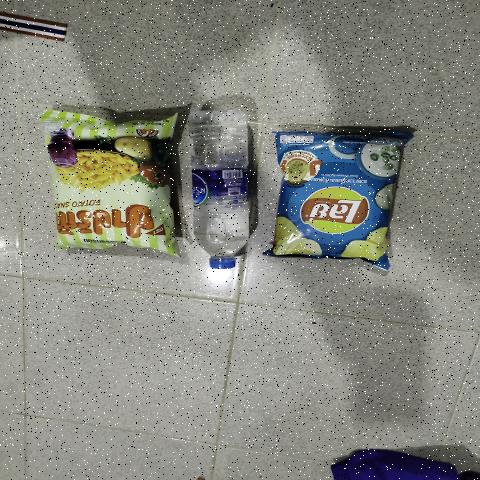crystal: (192, 108, 254, 273)
lay_blue: (284, 142, 390, 257)
paprika: (50, 119, 169, 246)
